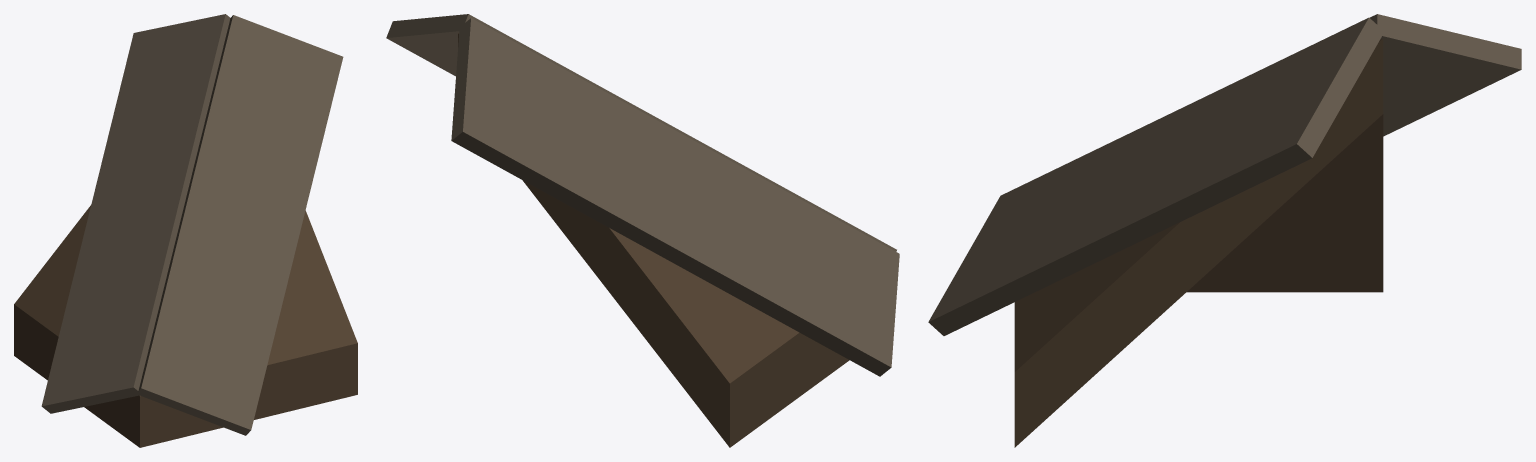
Rendered from dach_grat_traufe.glb.
The picture shows the model from 3 angles, left to right: view 1: azimuth 30°, elevation 25°; view 2: azimuth 150°, elevation 25°; view 3: azimuth 270°, elevation 25°; orthographic projection. The views are drawn at different scales.
Parts seen in each view (by area): view 1: dach_grat_traufe; view 2: dach_grat_traufe; view 3: dach_grat_traufe.
Boxes of the visible parts, box(x1,y1,x2,y2) form: dach_grat_traufe: box(14, 14, 357, 447); dach_grat_traufe: box(386, 14, 899, 447); dach_grat_traufe: box(928, 14, 1521, 447).
Size of the model in its own units: 0.805 by 0.6406 by 0.805.
